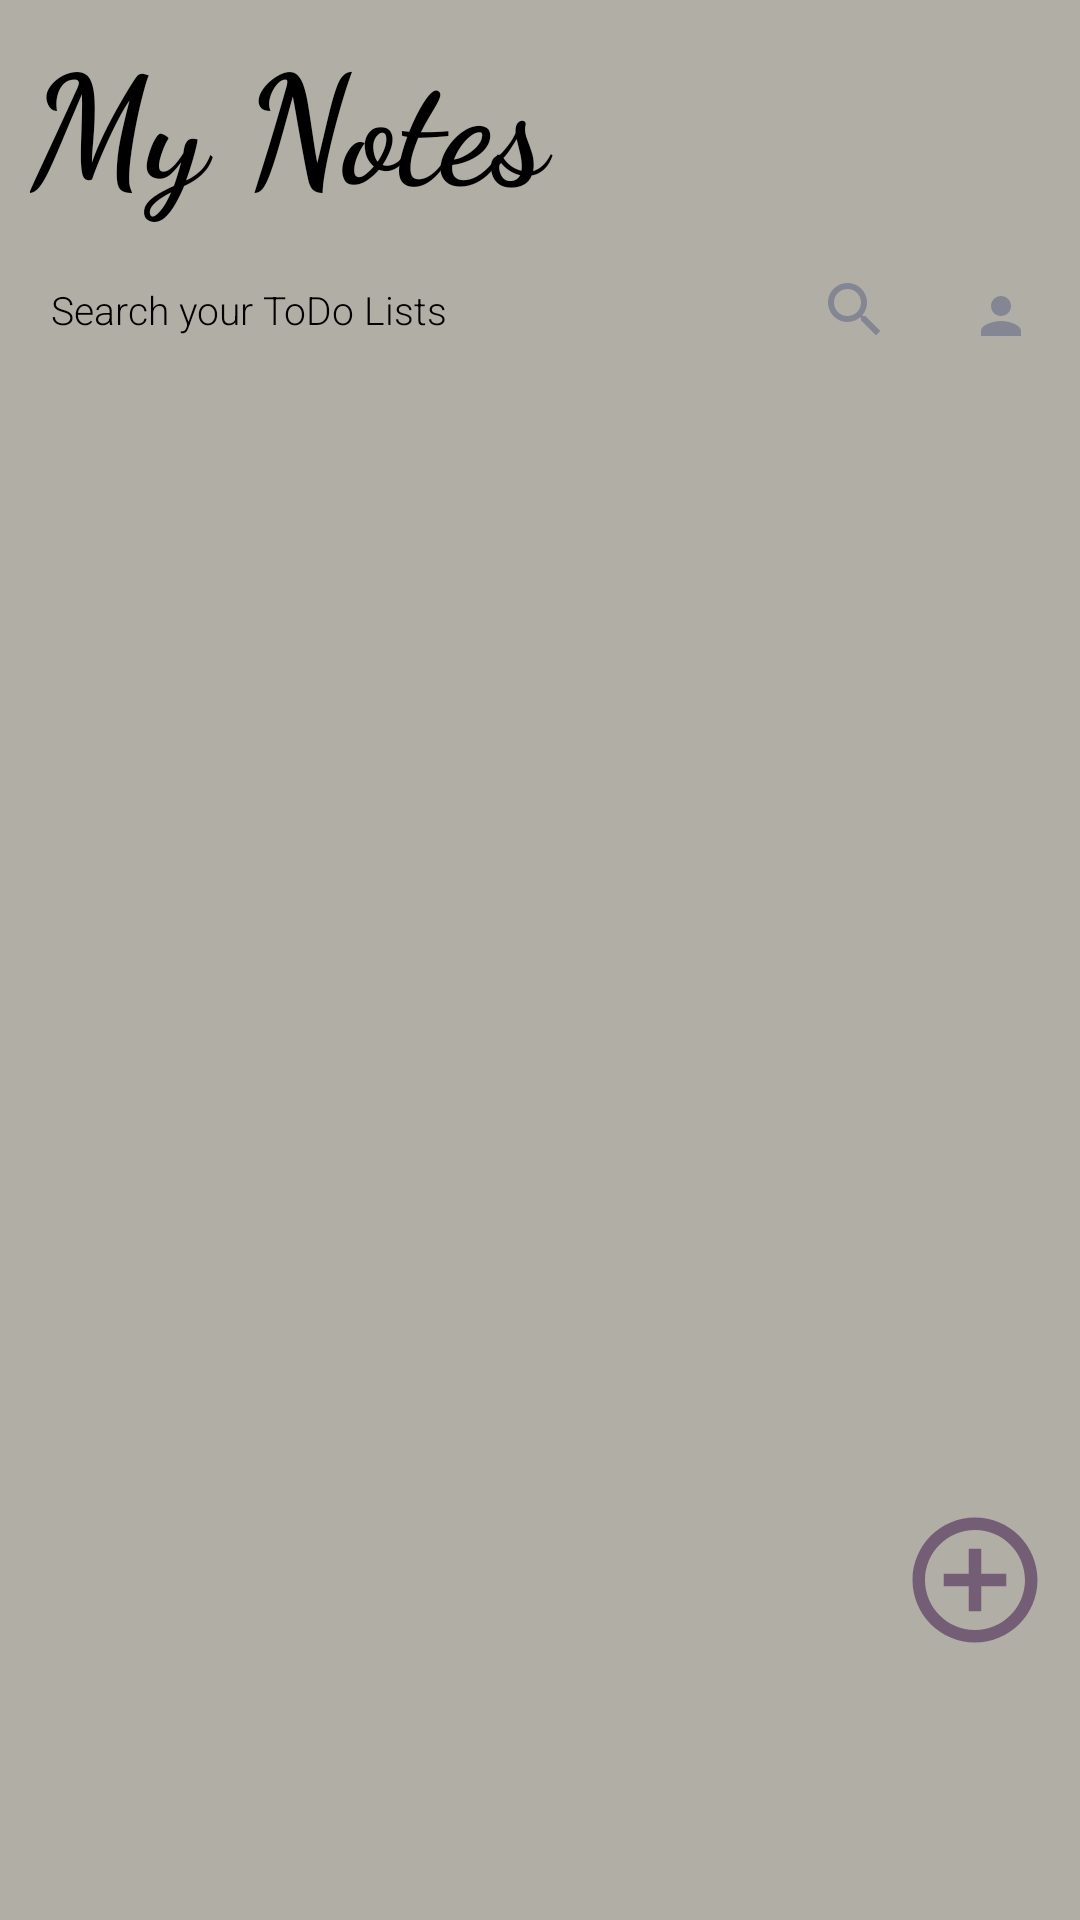

Where to tap for icons on this 1080 x 1920 app screen, as (x,y):
add circle: (975,1580)
person: (1001,316)
